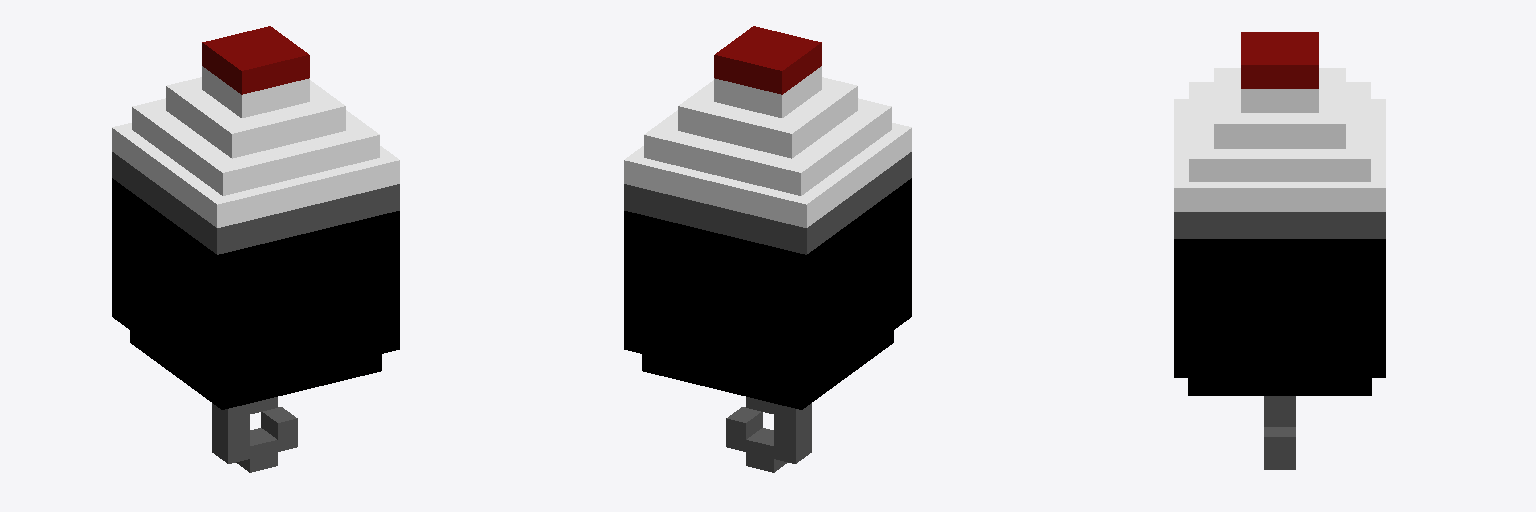
Rendered from bobber_1.obj.
3 views of the same model, side by side, from view 1: azimuth 30°, elevation 25°; view 2: azimuth 150°, elevation 25°; view 3: azimuth 270°, elevation 25° (orthographic).
Parts seen in each view (by area): view 1: Cube.001; view 2: Cube.001; view 3: Cube.001.
Part boxes in pixels (x1,y1,x2,y2): Cube.001: (112,26,399,472); Cube.001: (624,26,911,472); Cube.001: (1174,32,1385,469).
Bounding box in the file's own units: 8.08 × 17.51 × 8.08.